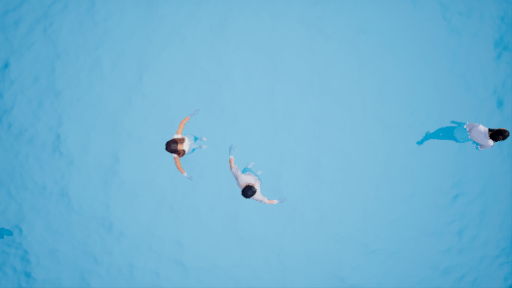person: (156, 97, 209, 182), (222, 140, 283, 212), (409, 112, 512, 150)
